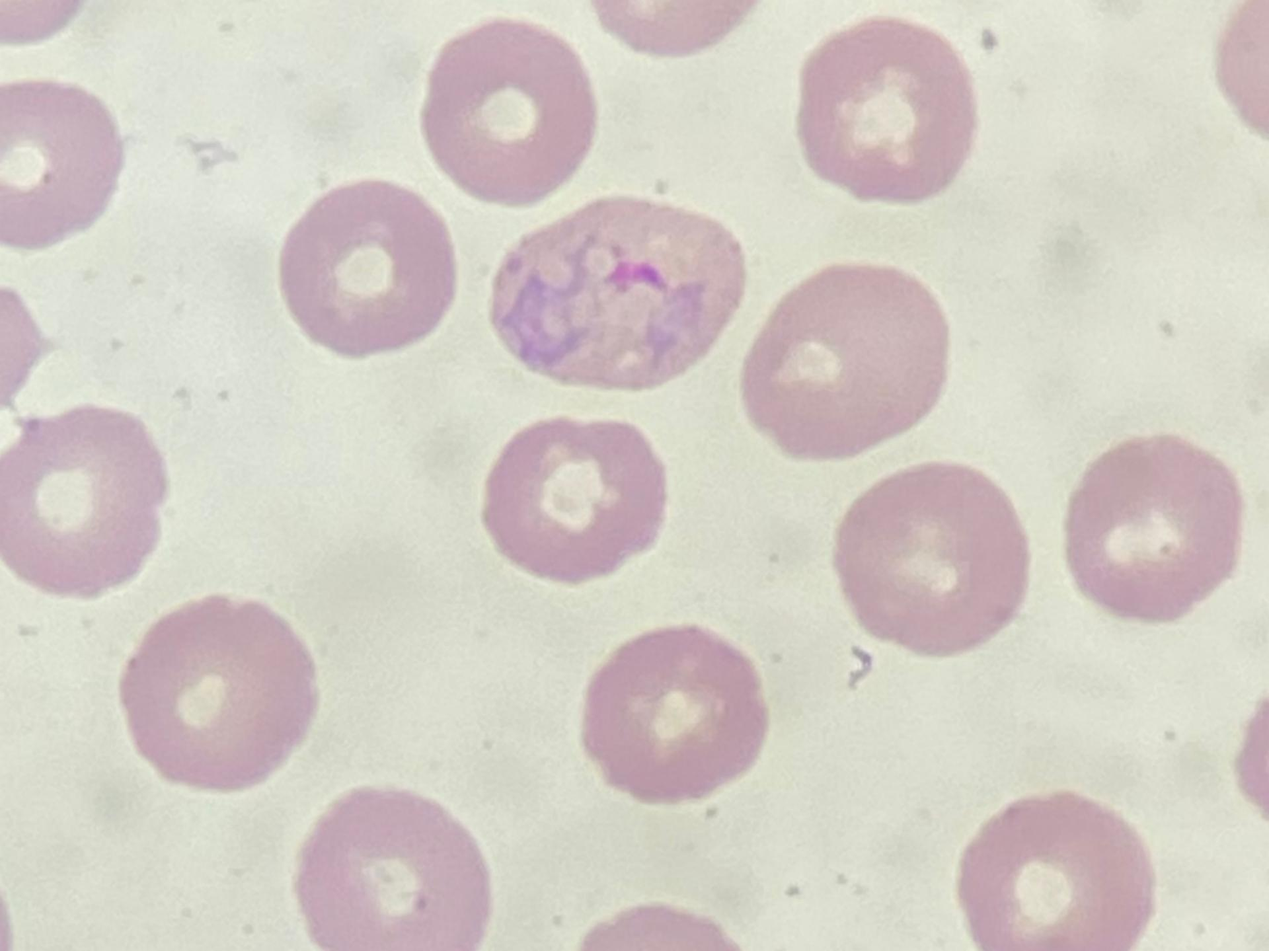Infected: (489, 197, 743, 395)
Uninfected: (738, 263, 952, 456), (123, 596, 323, 791), (837, 461, 1030, 662), (947, 789, 1163, 951), (1066, 433, 1250, 621), (582, 624, 765, 805), (800, 21, 975, 207), (282, 184, 466, 358), (0, 408, 167, 599), (304, 789, 495, 951), (485, 419, 668, 587), (423, 23, 599, 196)
